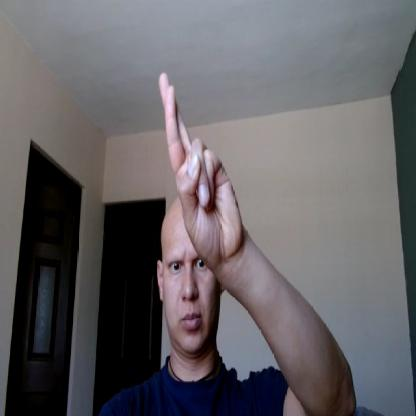R: (158, 68, 240, 260)
